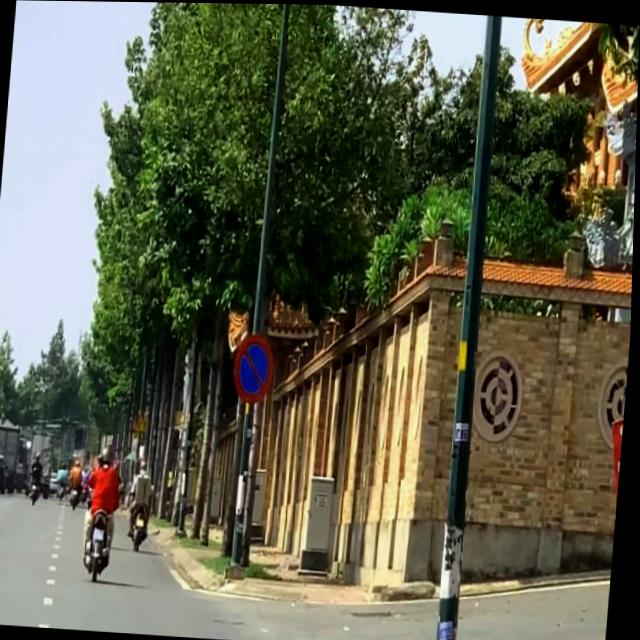Cam do xe: (234, 331, 279, 405)
cho ngoat nguy hiem vong ben phai: (136, 412, 151, 433)
